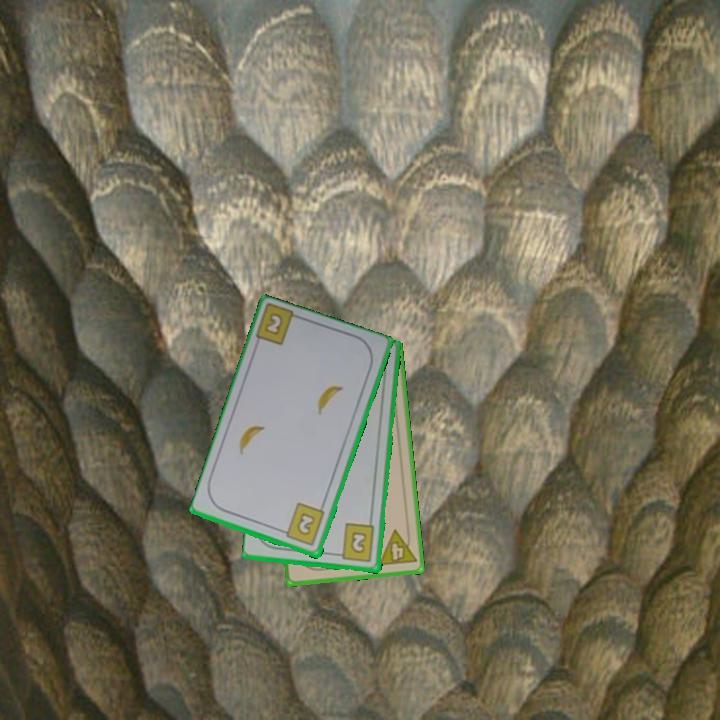2b: (277, 500, 328, 549), (333, 521, 378, 565), (261, 310, 286, 339)
4p: (375, 525, 419, 569)
